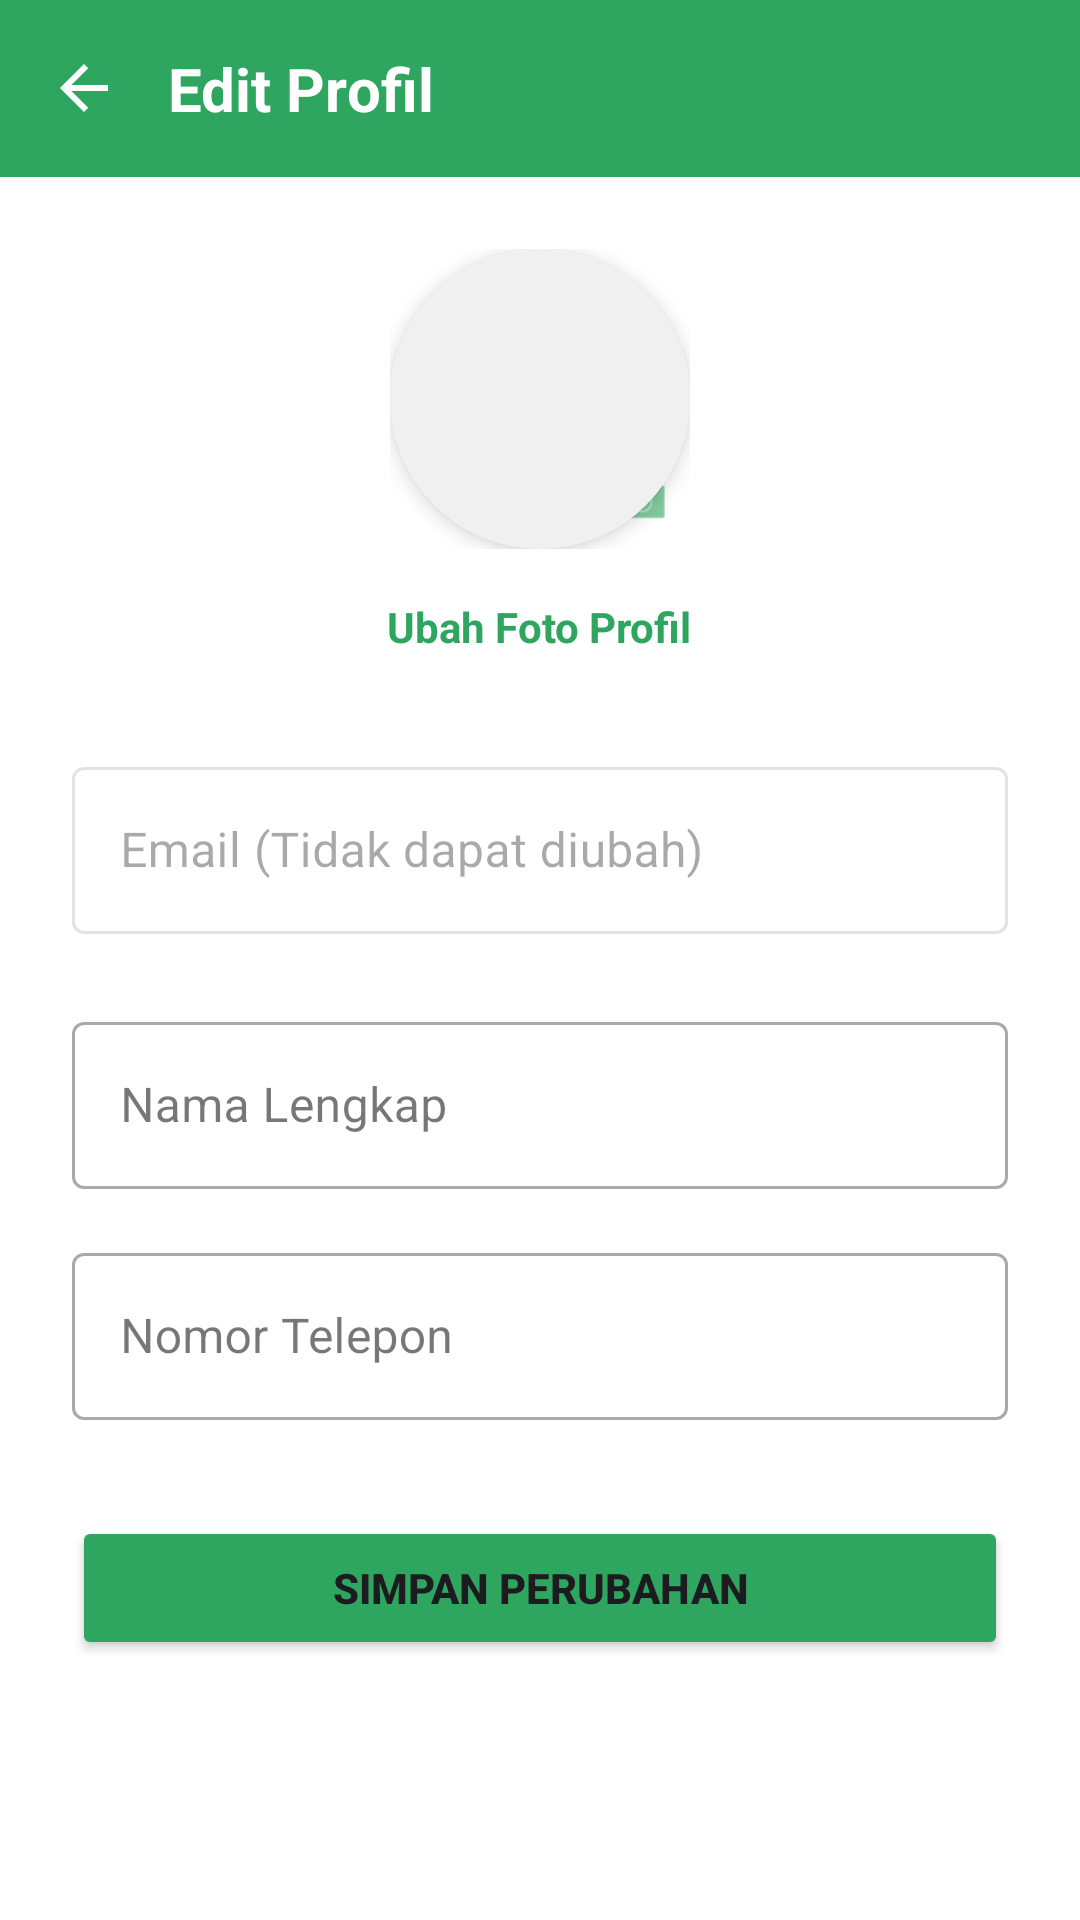

Icon click points for this 1080px×1920px phone screenshot, format (x,y):
ab back: (84,88)
